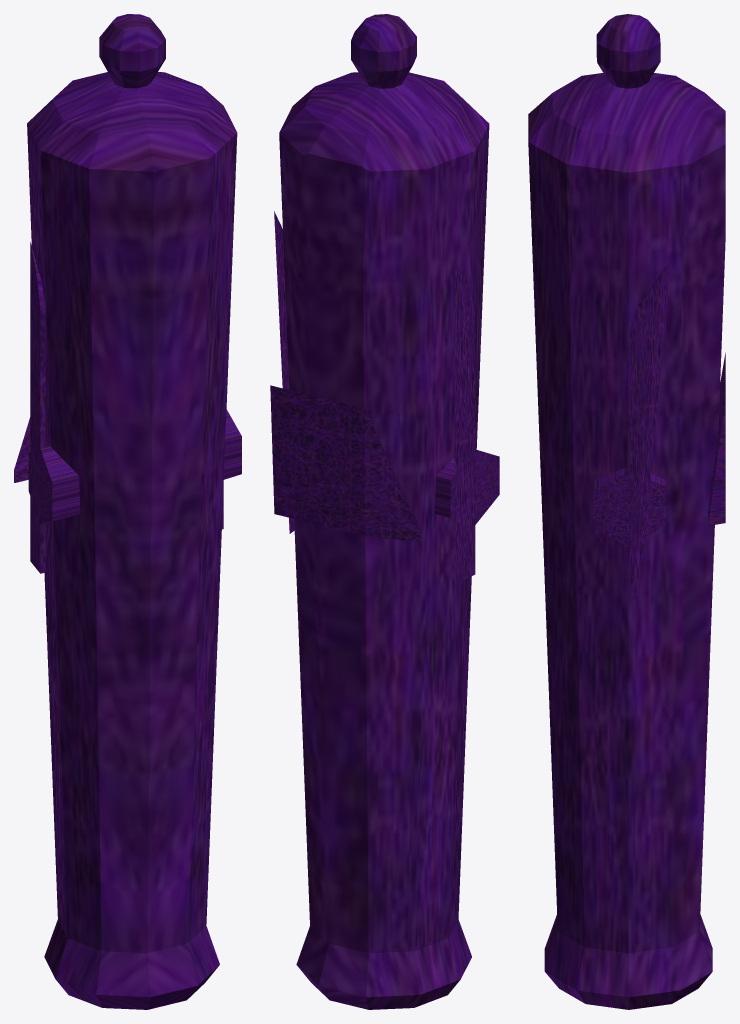
The model's file is canonobsidiana.obj.
3 renders of one model, left to right at view 1: azimuth 30°, elevation 25°; view 2: azimuth 150°, elevation 25°; view 3: azimuth 270°, elevation 25°, orthographic.
Parts seen in each view (by area): view 1: Object.1, Object.2, Object.5, Object.4; view 2: Object.1, Object.4, Object.2, Object.5, Object.3; view 3: Object.1, Object.3, Object.5, Object.4.
Part boxes in pixels (x1,y1,x2,y2): Object.1: (27,14,237,1009); Object.2: (30,242,45,573); Object.5: (28,409,241,524); Object.4: (14,417,30,482); Object.1: (279,14,489,1009); Object.4: (270,385,421,542); Object.2: (454,265,475,583); Object.5: (434,449,499,524); Object.3: (274,211,294,533); Object.1: (528,14,725,1009); Object.3: (629,261,670,596); Object.5: (593,466,665,546); Object.4: (708,352,725,525).
Bounding box in the file's own units: 772 × 3748 × 697.
Materials: 1 (1 with a texture image).
